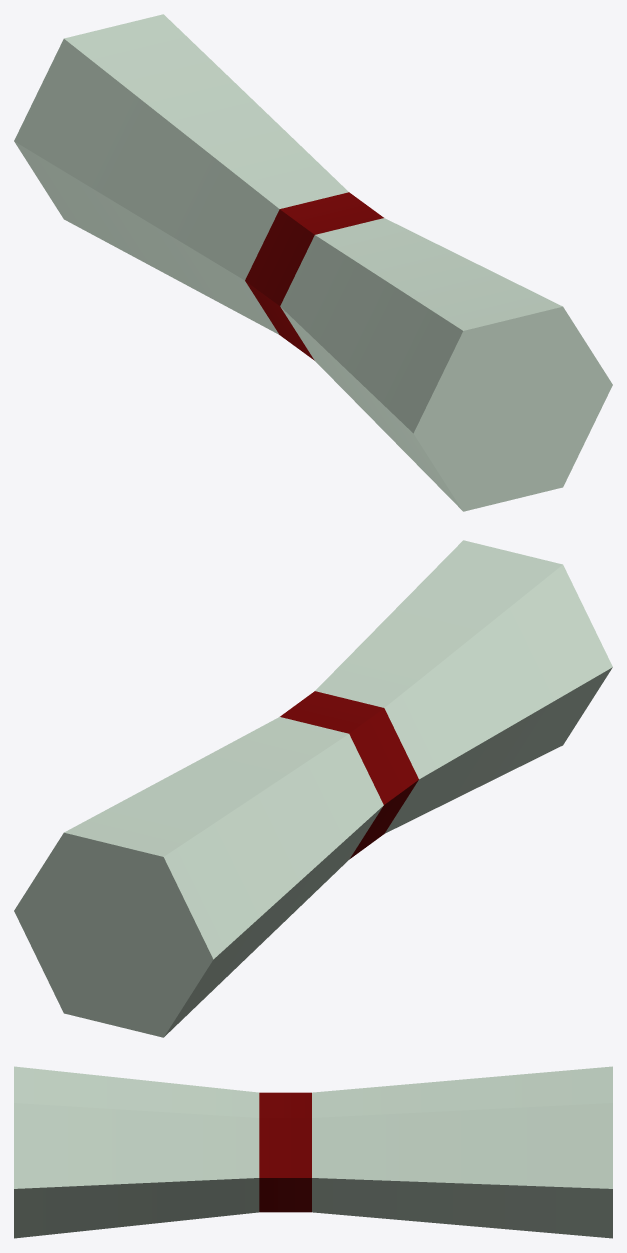
The picture shows the model from 3 angles, top to bottom: view 1: azimuth 30°, elevation 25°; view 2: azimuth 150°, elevation 25°; view 3: azimuth 270°, elevation 25°; orthographic projection. The views are drawn at different scales.
Visible parts, largest first — view 1: Cylinder029; view 2: Cylinder029; view 3: Cylinder029.
Boxes of the visible parts, left/top/right/bottom form: Cylinder029: left=14, top=14, right=612, bottom=511; Cylinder029: left=14, top=540, right=612, bottom=1037; Cylinder029: left=14, top=1066, right=612, bottom=1238.
Bounding box in the file's own units: 0.12 × 0.1039 × 0.4162.
